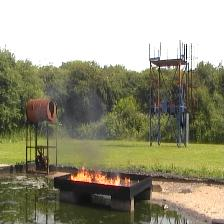fire: (73, 166, 139, 191)
